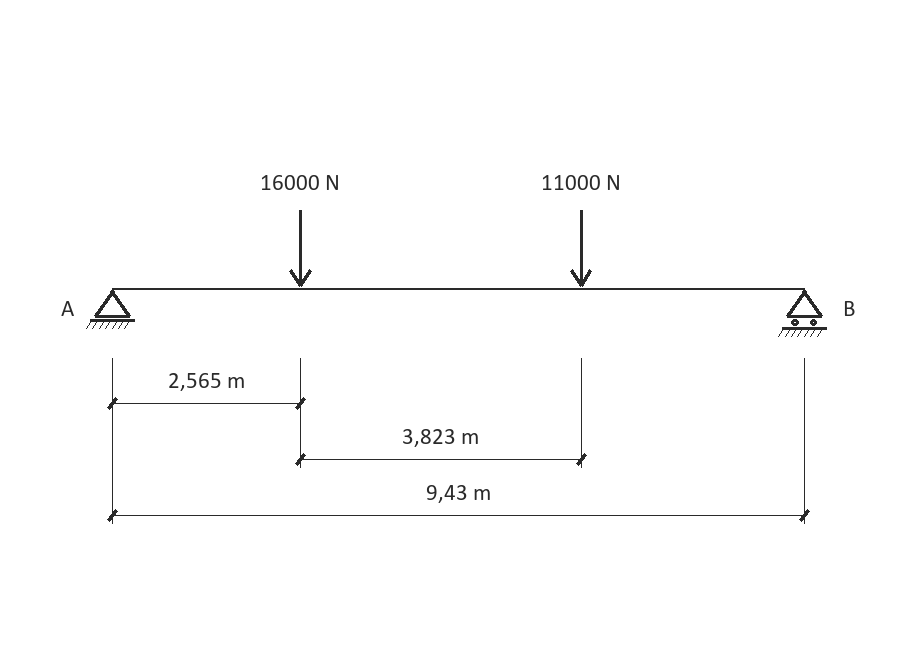pin_support: (86, 290, 135, 329)
point_load: (289, 210, 312, 287), (570, 210, 592, 287)
roller_support: (778, 290, 827, 337)
